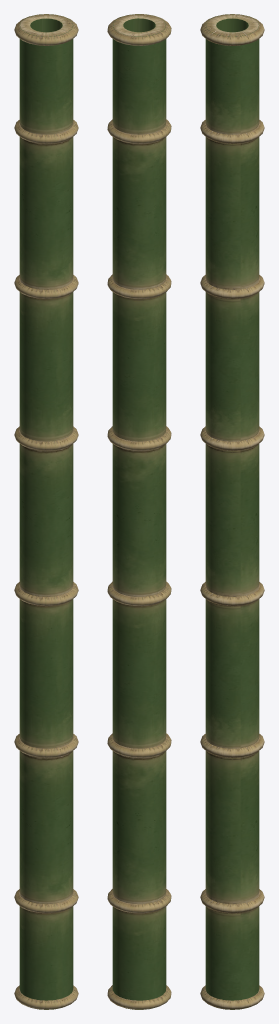
File: bamboo - Copy.fbx
The picture shows the model from 3 angles, left to right: view 1: azimuth 90°, elevation 25°; view 2: azimuth 150°, elevation 25°; view 3: azimuth 270°, elevation 25°; orthographic projection.
Parts seen in each view (by area): view 1: pTorus10; view 2: pTorus10; view 3: pTorus10.
Part boxes in pixels (x1,y1,x2,y2): pTorus10: [14, 14, 78, 1009]; pTorus10: [107, 14, 171, 1009]; pTorus10: [200, 14, 264, 1009].
Bounding box in the file's own units: 54 × 901 × 54.
1 material, 1 textured.
